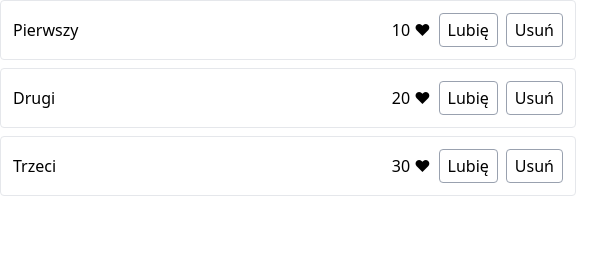
Test: PostList › rolls the counter back when the request fails
This screenshot has width=593, height=279.
Expected: the text "Pierwszy" is shown, [13,18,78,42]
Click the button with aria-label "Polub: Pierwszy" at (468, 30), box [439,13,498,47]
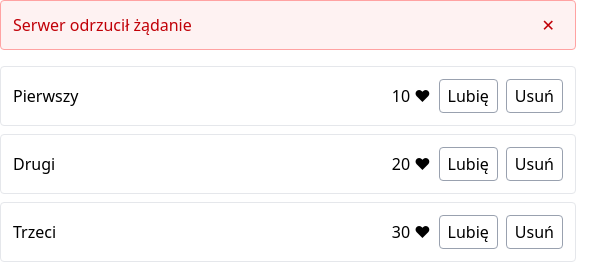
Expected: the text with test id "likes-1" shows "10", [392,85,410,107]
Now the message shows "Serwer odrzucił żądanie", box [13,14,192,36]
